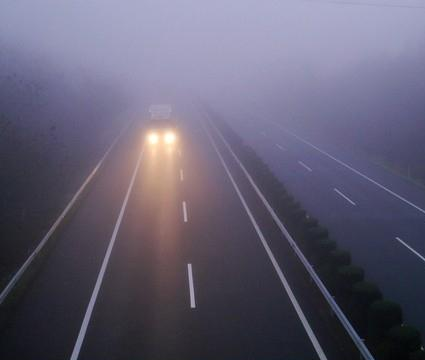car: (143, 102, 178, 147)
